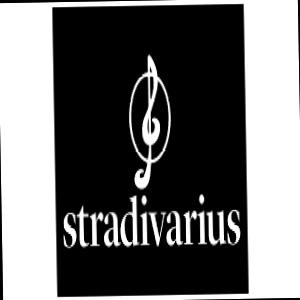stradivarius: (214, 24, 273, 72)
